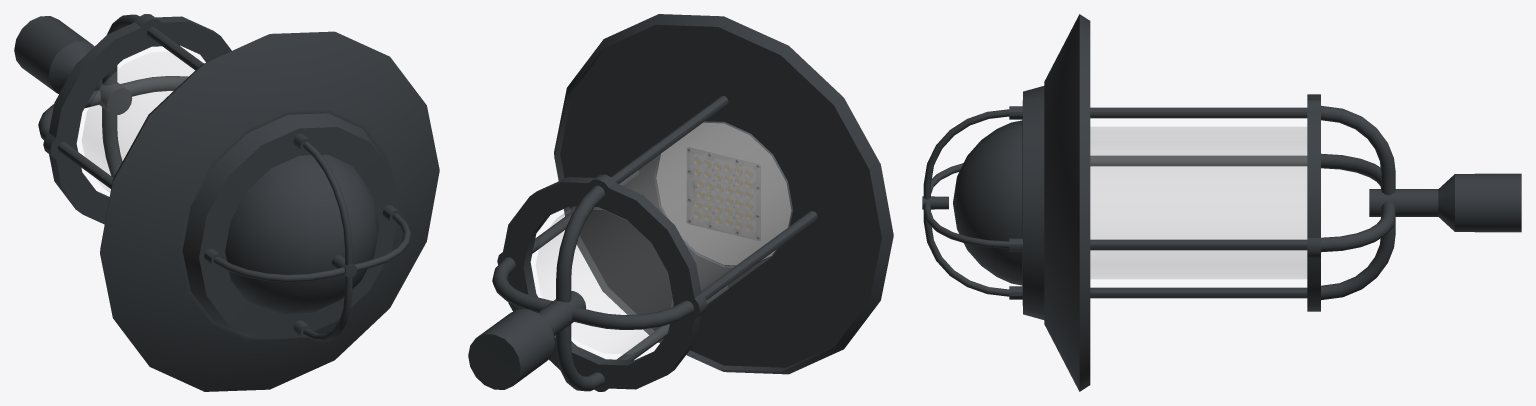
Rendered from Fiete_I.obj.
3 renders of one model, left to right at view 1: azimuth 30°, elevation 25°; view 2: azimuth 150°, elevation 25°; view 3: azimuth 270°, elevation 25°, orthographic. The views are drawn at different scales.
Visible parts, largest first — view 1: BezierCurve.002, Glas, BezierCurve.004, BezierCurve.005, Cylinder.001; view 2: BezierCurve.002, Glas, BezierCurve.005, Cylinder.001; view 3: BezierCurve.002, Glas, Cylinder.001, BezierCurve.005, BezierCurve.004.
Part boxes in pixels (x1,y1,x2,y2): BezierCurve.002: [14, 14, 439, 391]; Glas: [82, 52, 194, 192]; BezierCurve.004: [214, 141, 411, 341]; BezierCurve.005: [38, 14, 188, 177]; Cylinder.001: [57, 27, 401, 337]; BezierCurve.002: [468, 14, 893, 391]; Glas: [536, 121, 792, 353]; BezierCurve.005: [492, 185, 694, 391]; Cylinder.001: [532, 95, 817, 360]; BezierCurve.002: [922, 14, 1521, 391]; Glas: [1090, 127, 1306, 278]; Cylinder.001: [1009, 106, 1307, 299]; BezierCurve.005: [1321, 105, 1395, 300]; BezierCurve.004: [923, 109, 1009, 296].
Size of the model in its own units: 0.5706 by 0.5706 by 0.9043.
3 materials, 2 textured.
